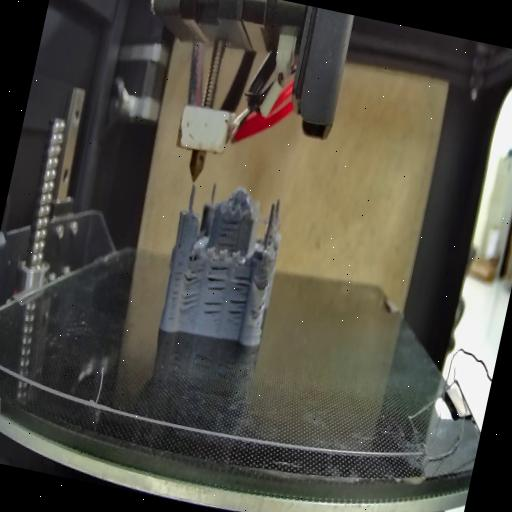cracks: (224, 272, 252, 325), (164, 258, 186, 322), (212, 212, 242, 248), (204, 258, 232, 296), (200, 297, 222, 326), (182, 266, 204, 286), (178, 292, 198, 314), (256, 270, 270, 292), (246, 304, 258, 322), (256, 298, 266, 312)
